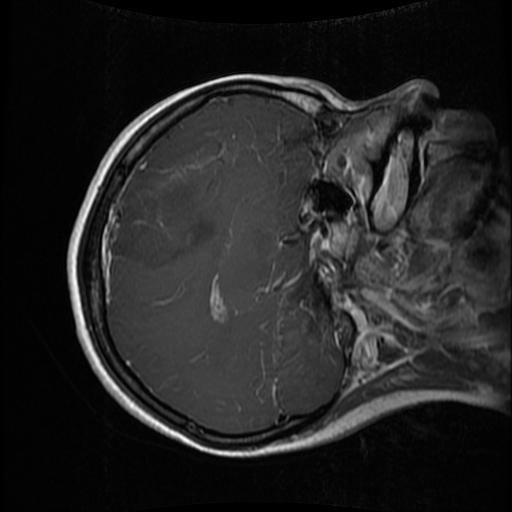glioma: (115, 168, 215, 269)
